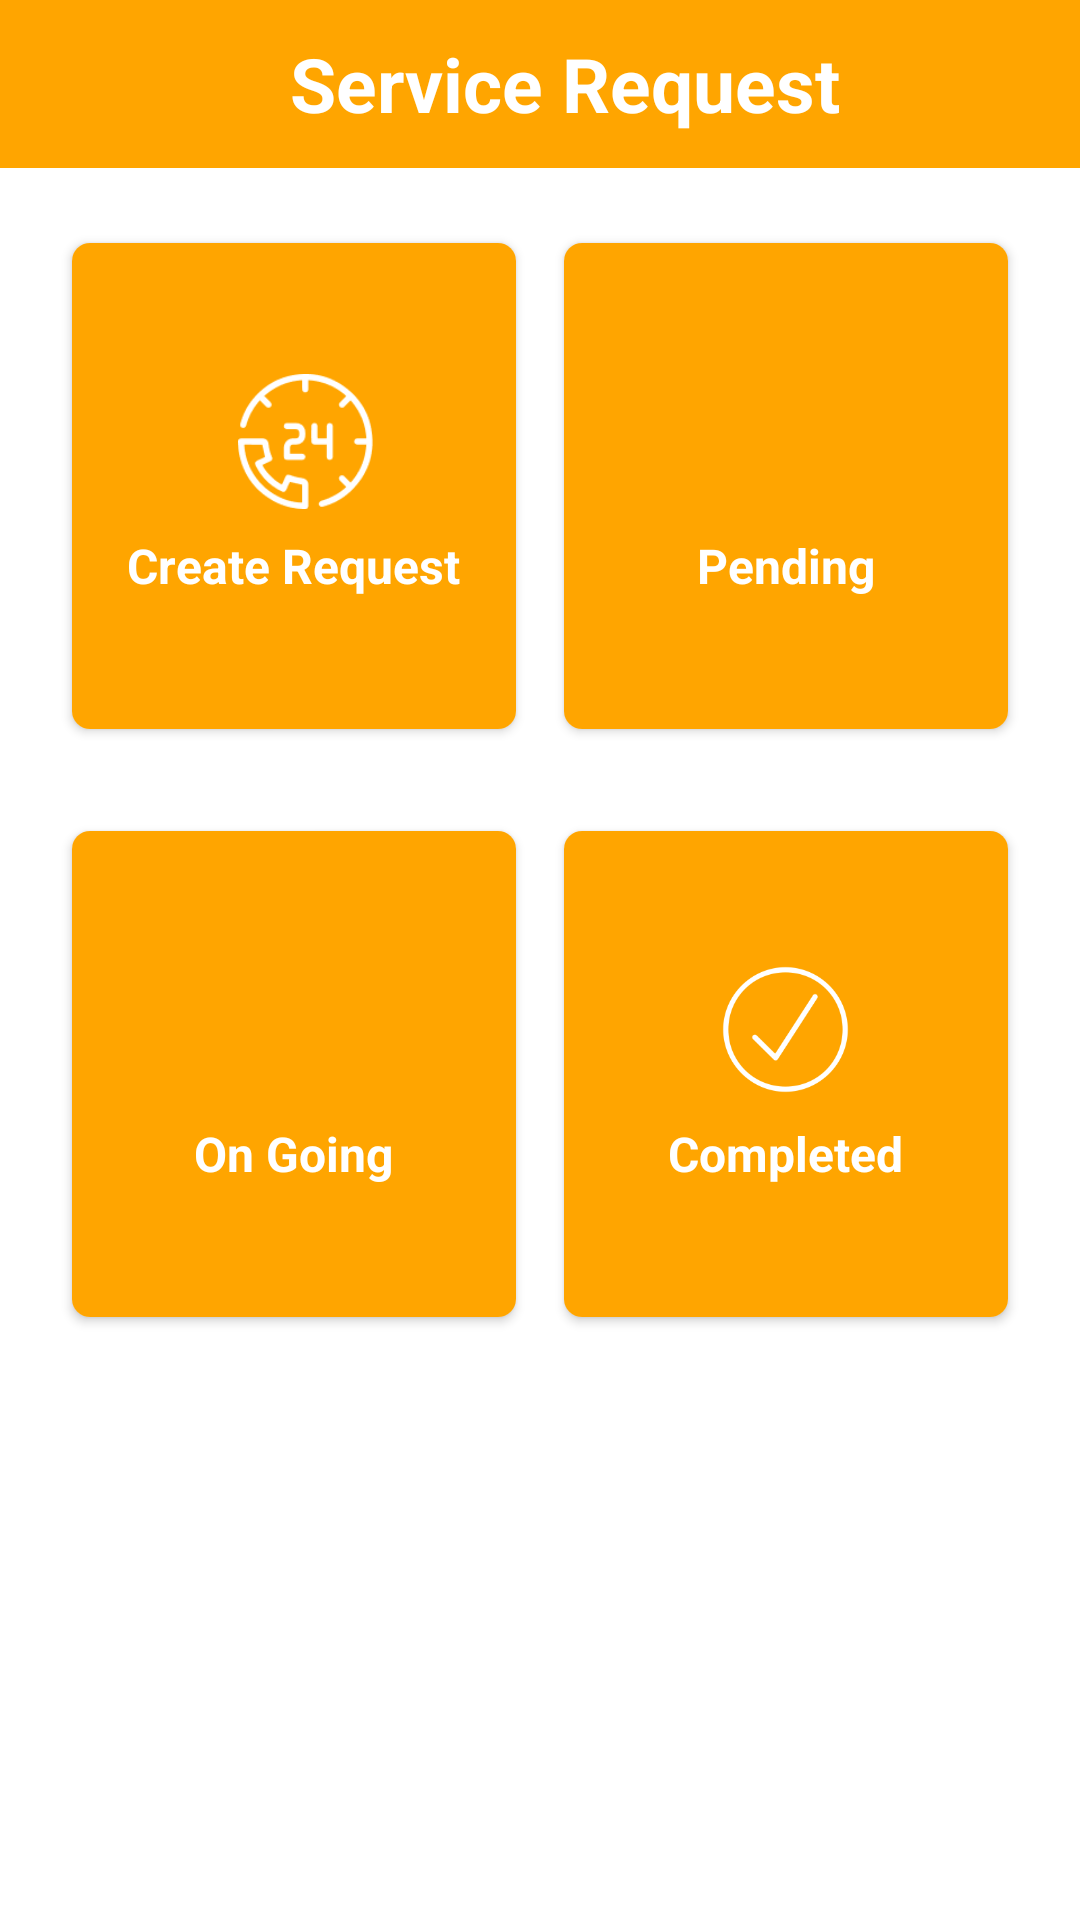

Screen size 1080x1920. Icon name, then its box in pixels as (x1, y1, x2, y2):
service request: (238, 374, 373, 509)
